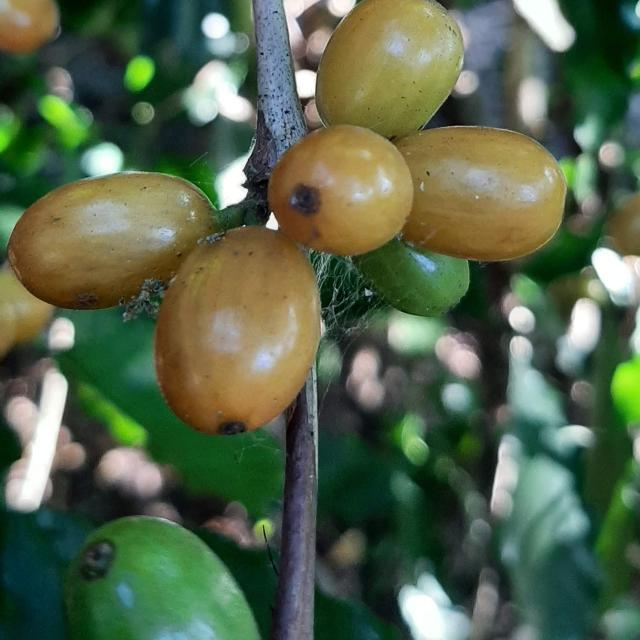green: (64, 517, 260, 640), (316, 0, 464, 138), (357, 238, 470, 316)
red: (154, 227, 321, 435), (7, 172, 215, 310), (395, 126, 568, 261), (268, 124, 414, 255)
